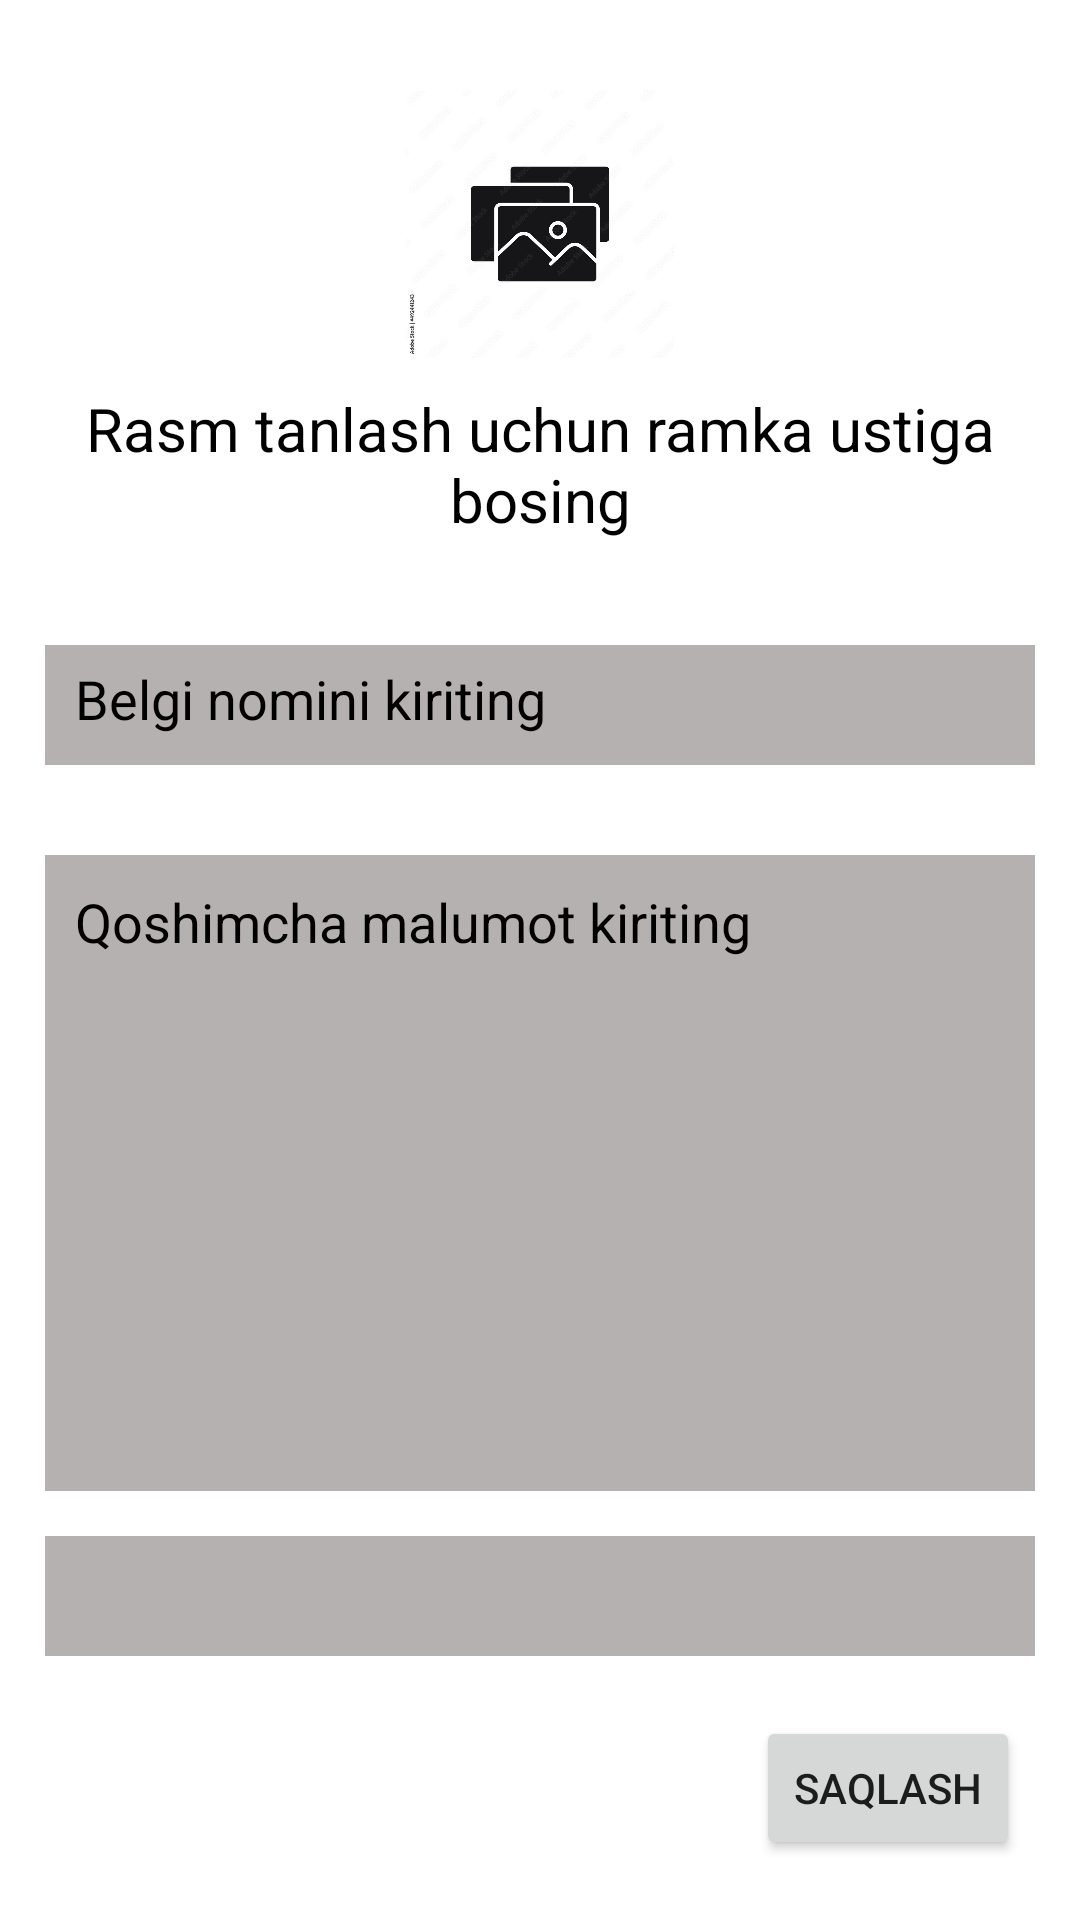

Named icons in this screenshot (1080x1920) and their centers, (x,y):
imageback: (509,260)
